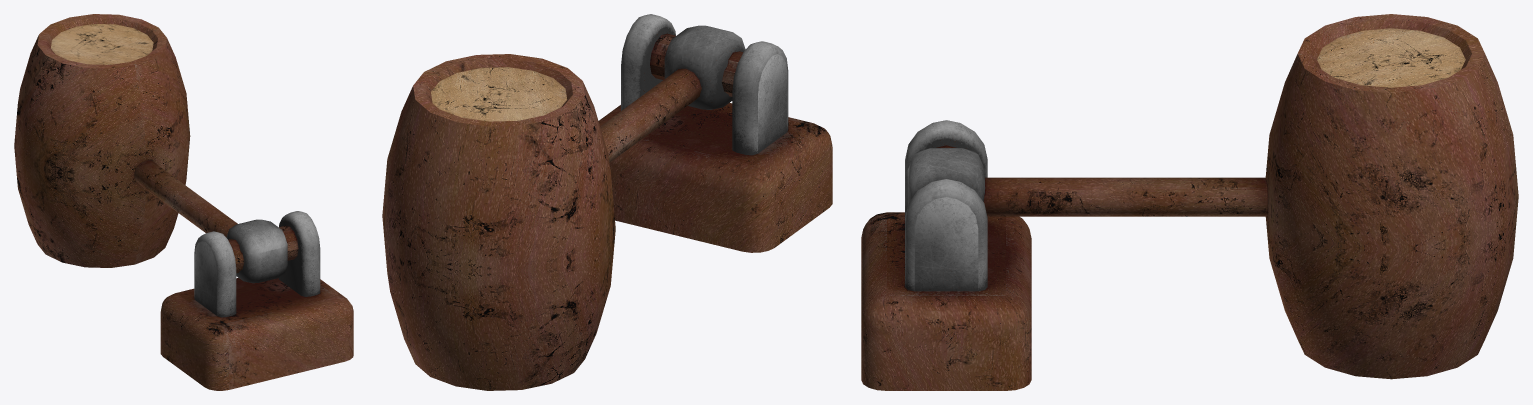
Rendered from Obstacle-13.fbx.
The picture shows the model from 3 angles, left to right: view 1: azimuth 30°, elevation 25°; view 2: azimuth 150°, elevation 25°; view 3: azimuth 270°, elevation 25°; orthographic projection. The views are drawn at different scales.
Visible parts, largest first — view 1: Obstacle-12-Hammer, Obstacle-12; view 2: Obstacle-12-Hammer, Obstacle-12; view 3: Obstacle-12-Hammer, Obstacle-12.
Part boxes in pixels (x1,y1,x2,y2): Obstacle-12-Hammer: [14, 14, 287, 283]; Obstacle-12: [160, 211, 353, 390]; Obstacle-12-Hammer: [382, 25, 745, 390]; Obstacle-12: [598, 14, 832, 252]; Obstacle-12-Hammer: [907, 14, 1518, 379]; Obstacle-12: [861, 120, 1031, 390].
Bounding box in the file's own units: 0.7769 × 0.9625 × 2.01.
